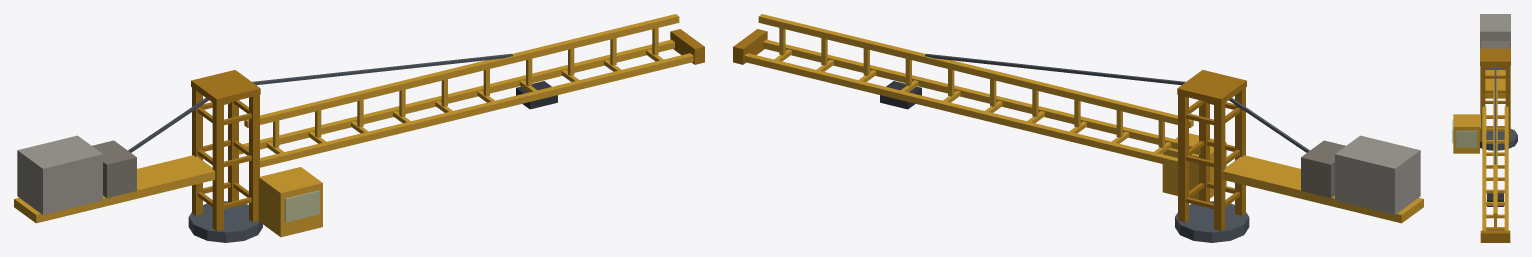
Rendered from v2-crane-jib.glb.
The picture shows the model from 3 angles, left to right: view 1: azimuth 30°, elevation 25°; view 2: azimuth 150°, elevation 25°; view 3: azimuth 270°, elevation 25°; orthographic projection. The views are drawn at different scales.
Parts seen in each view (by area): view 1: v2-crane-jib; view 2: v2-crane-jib; view 3: v2-crane-jib.
Boxes of the visible parts, x1,y1,x2,y2 form: v2-crane-jib: [14, 14, 704, 242]; v2-crane-jib: [733, 14, 1423, 242]; v2-crane-jib: [1452, 14, 1517, 242].
Bounding box in the file's own units: 6.65 × 1.36 × 0.9401.
